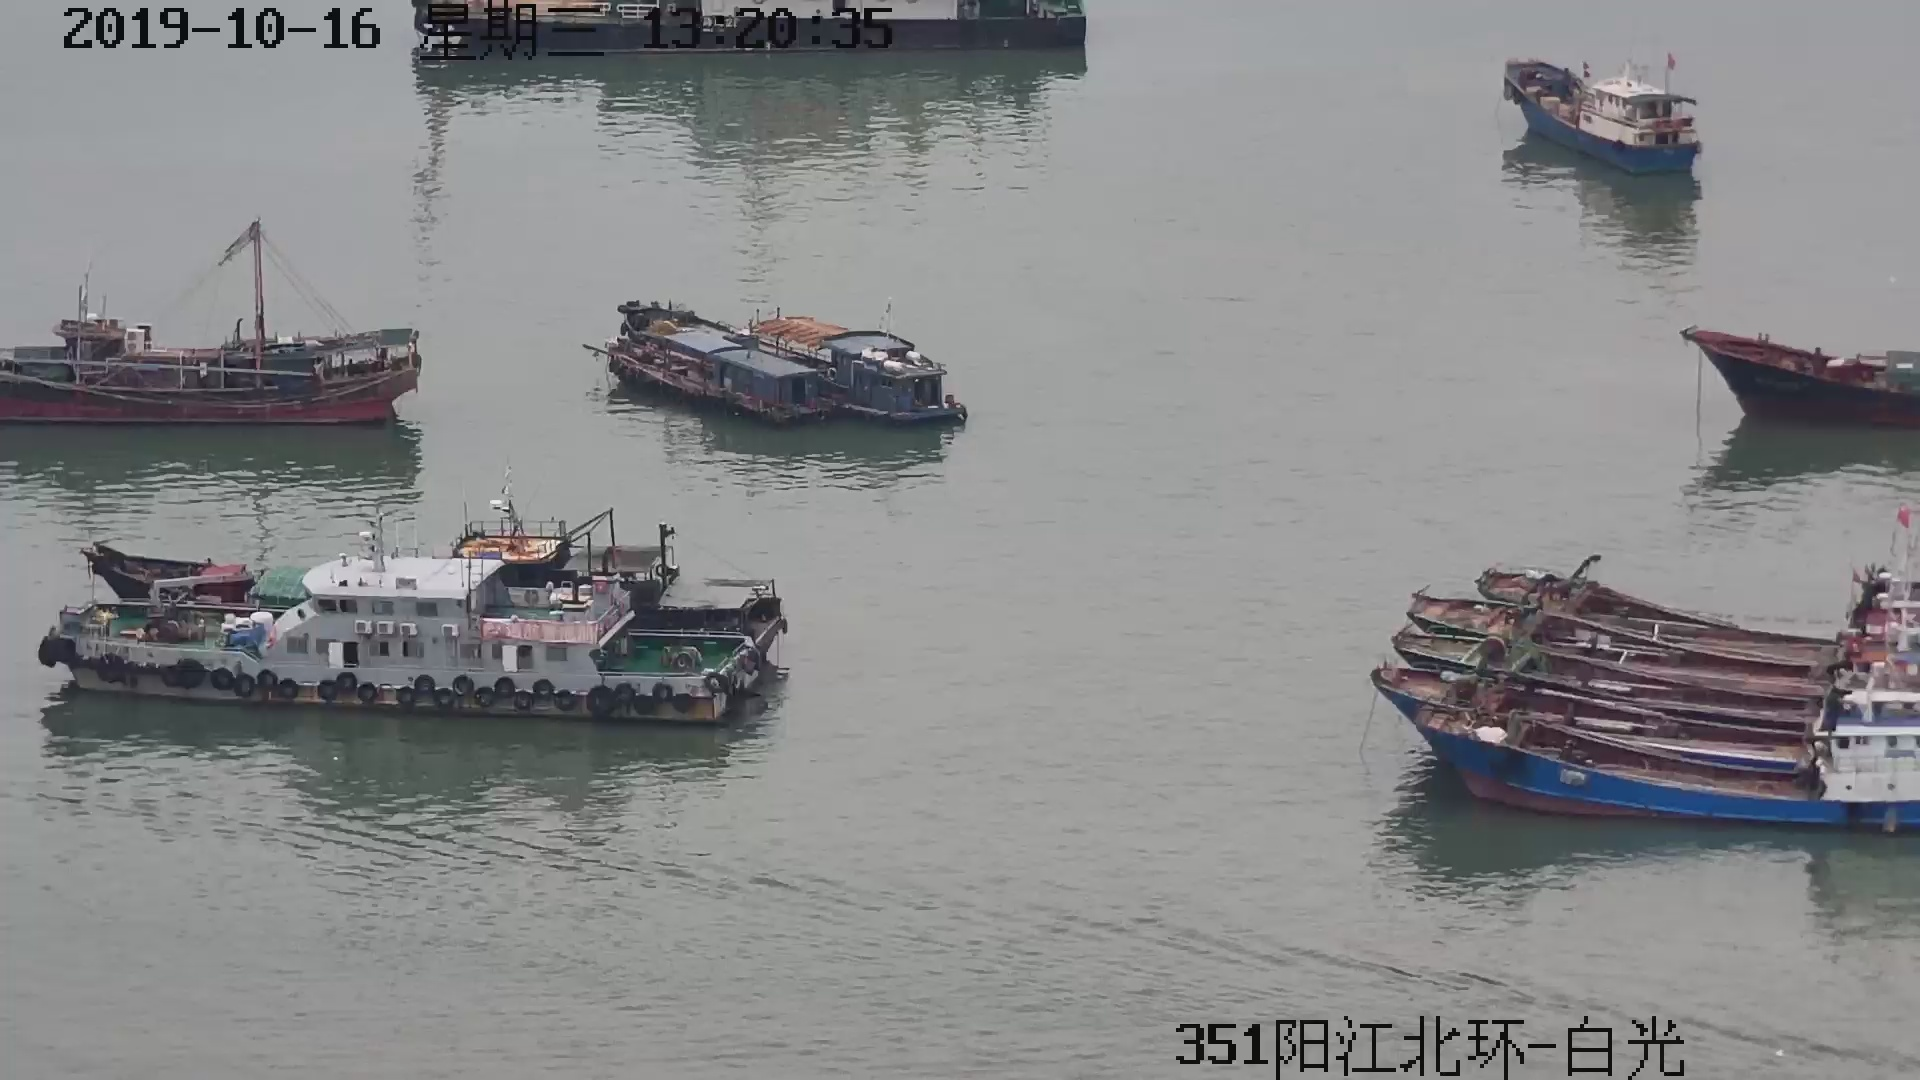ship: (32, 489, 791, 731), (1373, 530, 1920, 825), (4, 220, 419, 436), (592, 303, 971, 442), (1503, 51, 1704, 177), (1684, 327, 1920, 430)
